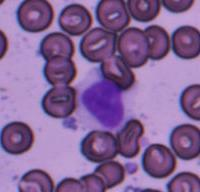L: (76, 79, 132, 132)
